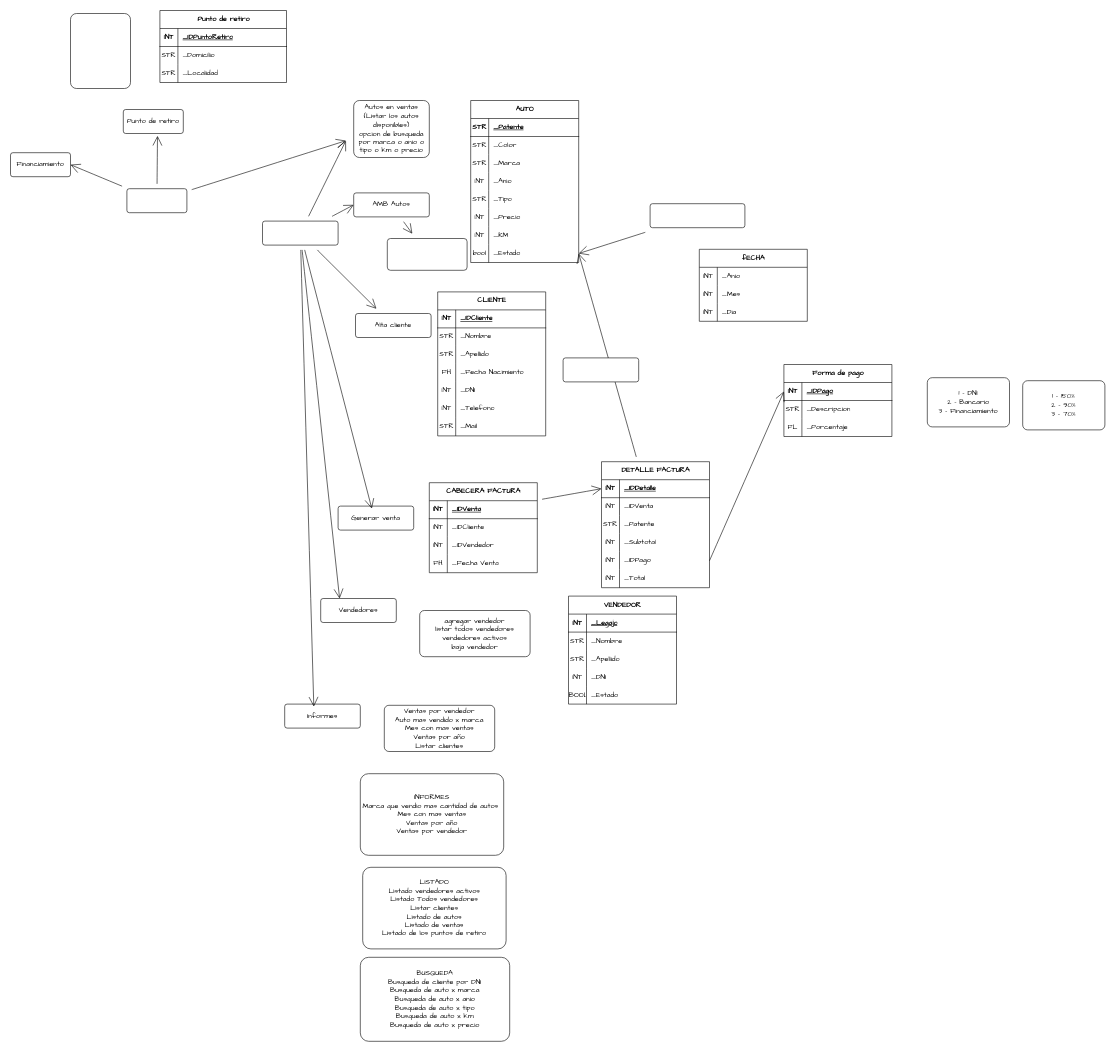
The diagram is 1115 pixels wide and 1052 high, and some of its shapes have lost their labels. Each missing label, with the centre of its shape:
"0 se vendio 1 no se vendio" goes at (x=697, y=215).
"1 - ADMINISTRADOR" goes at (x=300, y=232).
"2 - CLIENTE" goes at (x=156, y=200).
"Alta Modificacion Baja" goes at (x=427, y=254).
"cuando genero venta cambia estado" goes at (x=600, y=369).
"INT - ENTERO STR - STRING BOOL - BOOL FL - FLOAT FH - FECHA(CLASE)" goes at (x=100, y=50).
